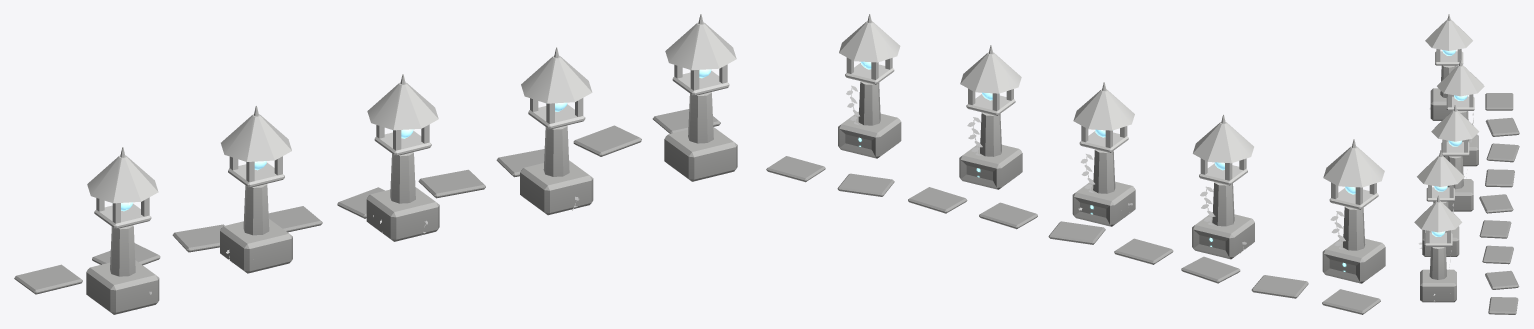
File: SM_SANC_origin_lantern_row.fbx
3 renders of one model, left to right at view 1: azimuth 30°, elevation 25°; view 2: azimuth 150°, elevation 25°; view 3: azimuth 270°, elevation 25°, orthographic. The views are drawn at different scales.
Visible parts, largest first — view 1: SM_SANC_origin_lantern_row_LOD0; view 2: SM_SANC_origin_lantern_row_LOD0; view 3: SM_SANC_origin_lantern_row_LOD0.
Part boxes in pixels (x1=…): SM_SANC_origin_lantern_row_LOD0: x1=14, y1=14, x2=737, y2=314; SM_SANC_origin_lantern_row_LOD0: x1=766, y1=14, x2=1385, y2=314; SM_SANC_origin_lantern_row_LOD0: x1=1414, y1=14, x2=1519, y2=314.
Size of what is drawn, in the model's own units: 7.76 by 1.65 by 1.57.
